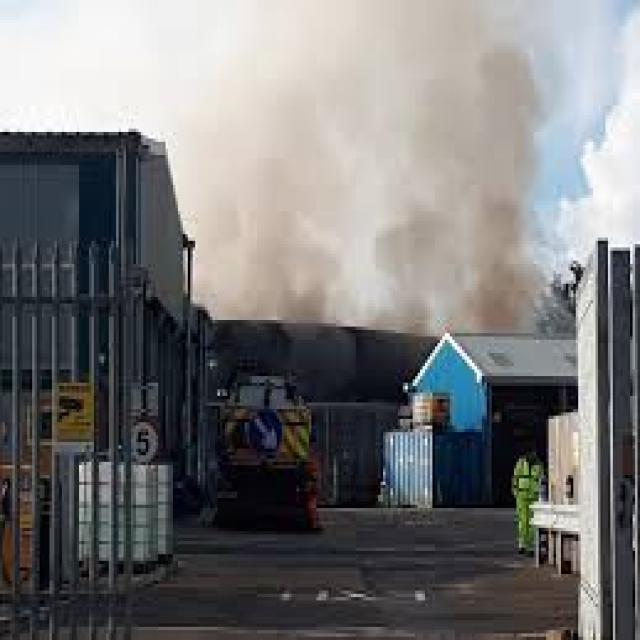Smoke: (150, 1, 590, 327)
